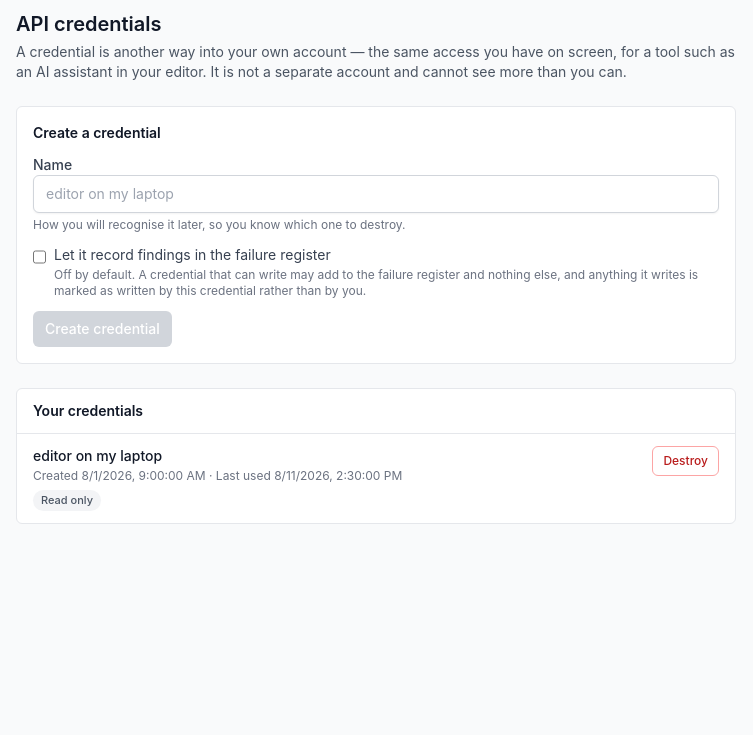
AccountPage › shows the secret once, and says it will not be shown again
Expected: the text "editor on my laptop" is shown, [33, 447, 162, 464]
Type "new one" into the field labelled "Name" at (376, 194), box [33, 175, 719, 213]
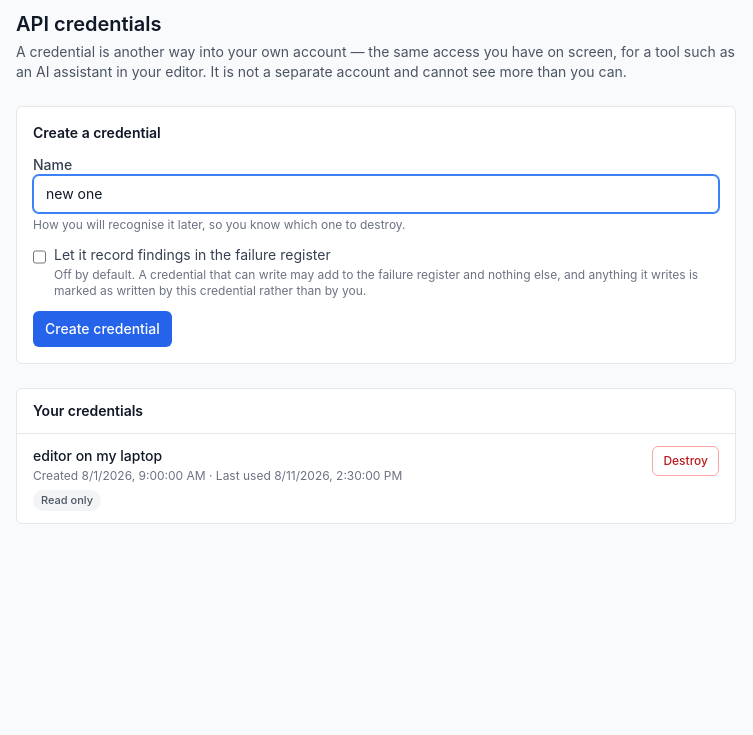
Click the button "Create credential" at (102, 329), box [33, 311, 172, 347]
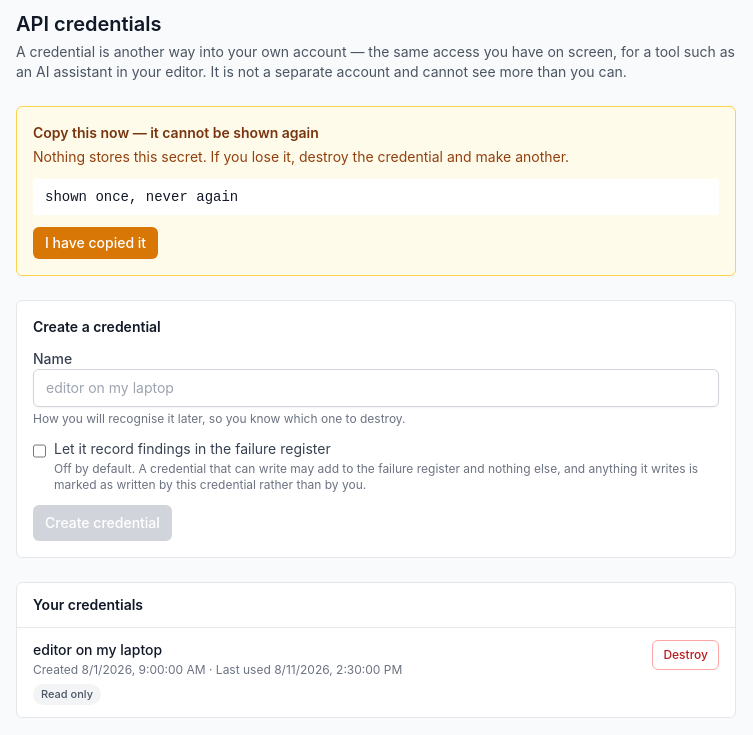
Expected: the text "shown once, never again" is shown, [33, 179, 719, 215]
Expected: the heading "Copy this now — it cannot be shown again" is shown, [33, 124, 319, 141]
